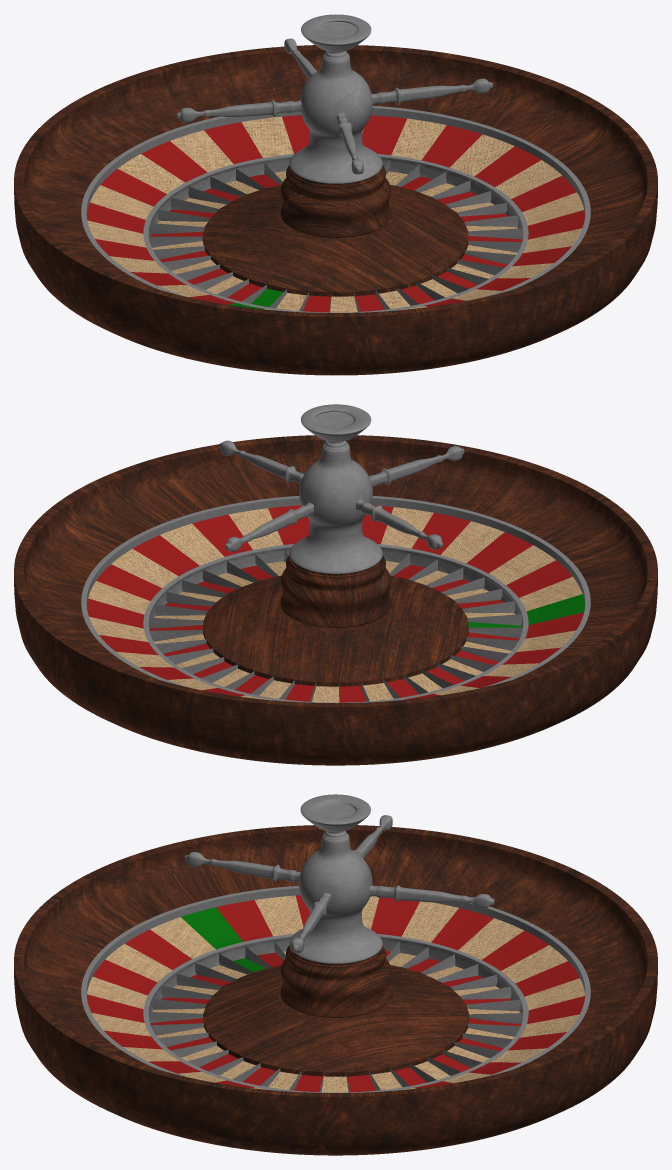
File: roulette_table.glb
The picture shows the model from 3 angles, top to bottom: view 1: azimuth 30°, elevation 25°; view 2: azimuth 150°, elevation 25°; view 3: azimuth 270°, elevation 25°; orthographic projection.
Parts seen in each view (by area): view 1: Circle_0; view 2: Circle_0; view 3: Circle_0.
Part boxes in pixels (<box>): Circle_0: <box>14,14,657,375</box>; Circle_0: <box>14,404,657,765</box>; Circle_0: <box>14,794,657,1155</box>.
Size of the model in its own units: 4.19 by 1.62 by 4.19.
6 materials, 4 textured.
